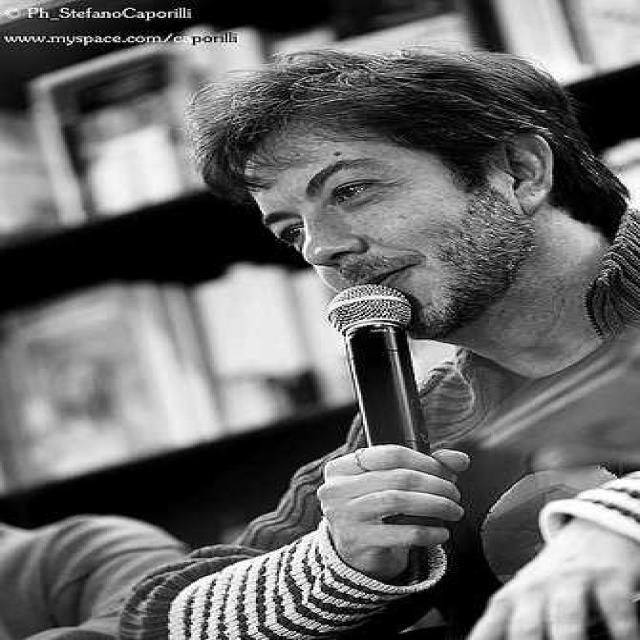microphone: (326, 286, 445, 517)
